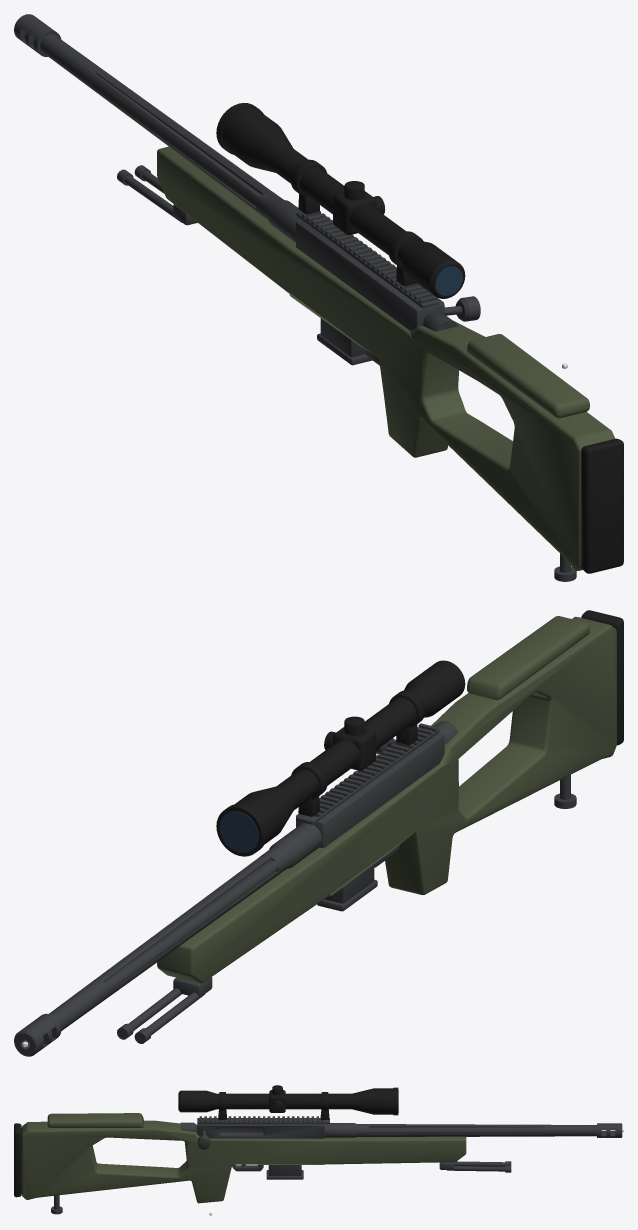
The model's file is AWP.glb.
3 renders of one model, top to bottom at view 1: azimuth 30°, elevation 25°; view 2: azimuth 150°, elevation 25°; view 3: azimuth 270°, elevation 25°, orthographic. The views are drawn at different scales.
Parts seen in each view (by area): view 1: Stock, Scope, Barrel, ButtPad, Receiver, Rail, Bipod, Magazine, Bolt; view 2: Stock, Scope, Barrel, Receiver, Bipod, Rail, ScopeLens, ButtPad, Magazine; view 3: Stock, Scope, Barrel, Receiver, Rail, Bipod, ButtPad, Magazine, Bolt, TriggerGuard.
Part boxes in pixels (left/top/right/bottom): Stock: left=157, top=146, right=614, bottom=570; Scope: left=216, top=103, right=465, bottom=298; Barrel: left=14, top=14, right=301, bottom=242; ButtPad: left=581, top=438, right=623, bottom=573; Receiver: left=296, top=216, right=444, bottom=330; Rail: left=296, top=211, right=439, bottom=308; Bipod: left=117, top=165, right=576, bottom=581; Magazine: left=317, top=318, right=372, bottom=365; Bolt: left=423, top=296, right=480, bottom=331; Stock: left=157, top=616, right=616, bottom=983; Scope: left=216, top=660, right=465, bottom=856; Barrel: left=14, top=823, right=321, bottom=1056; Receiver: left=296, top=733, right=444, bottom=847; Bipod: left=117, top=774, right=576, bottom=1043; Rail: left=296, top=723, right=439, bottom=824; ScopeLens: left=219, top=811, right=258, bottom=852; ButtPad: left=581, top=610, right=623, bottom=745; Magazine: left=317, top=864, right=377, bottom=911; Stock: left=21, top=1113, right=466, bottom=1203; Scope: left=178, top=1085, right=398, bottom=1119; Barrel: left=325, top=1123, right=622, bottom=1137; Receiver: left=197, top=1124, right=324, bottom=1138; Rail: left=197, top=1116, right=329, bottom=1123; Bipod: left=51, top=1161, right=511, bottom=1214; ButtPad: left=14, top=1123, right=21, bottom=1197; Magazine: left=266, top=1165, right=303, bottom=1179; Bolt: left=180, top=1122, right=210, bottom=1149; TriggerGuard: left=232, top=1164, right=263, bottom=1171.
Bounding box in the file's own units: 1.17 × 1.55 × 6.88.
